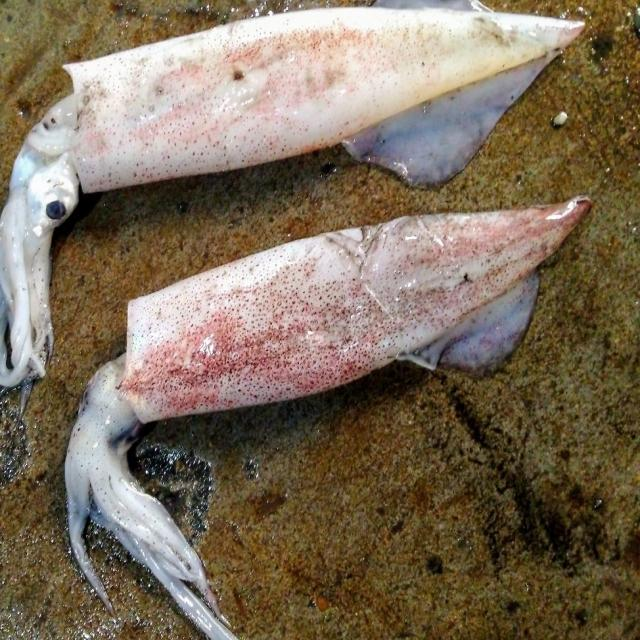SQUID: (64, 178, 622, 604), (0, 0, 617, 346)
